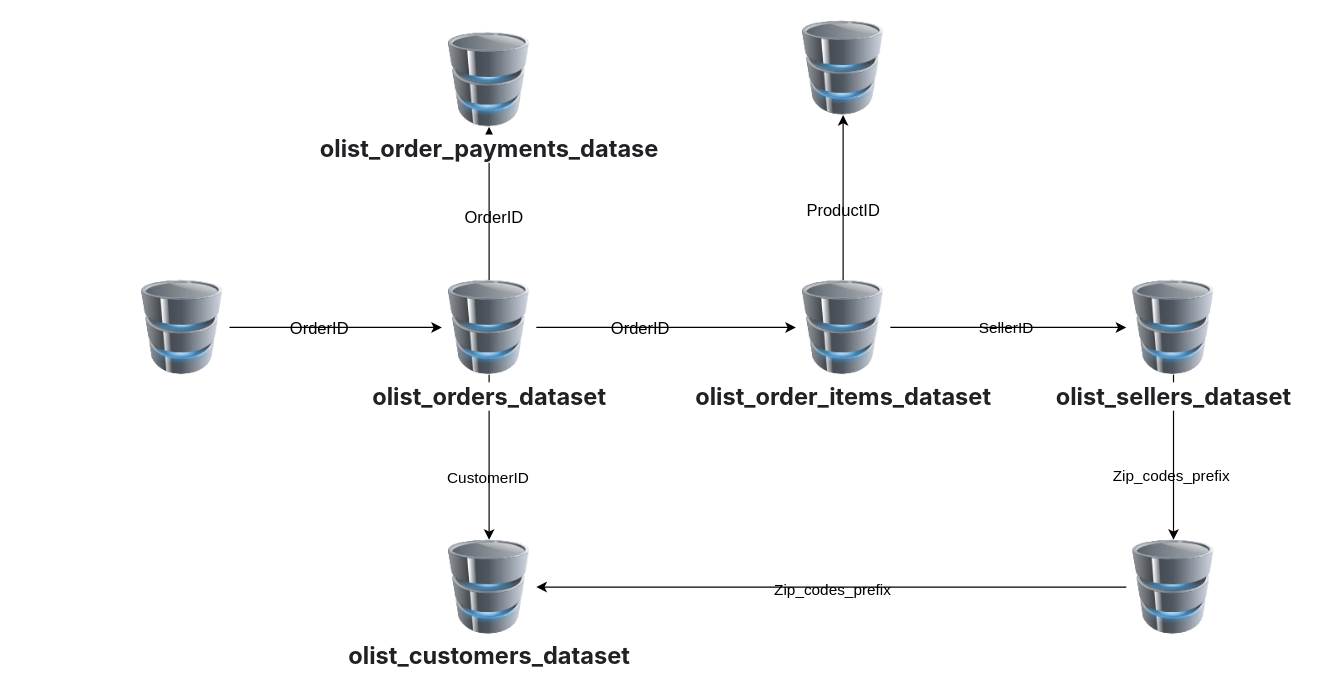
Image size: 1340x690. Some labels were removed from this diagram. Here are the shapes that lost their labels. From the top down, the centre of each, then its label:
[842,67]: olist_products_dataset
[182,327]: olist_order_reviews_dataset
[1173,586]: olist_geolocation_dataset
